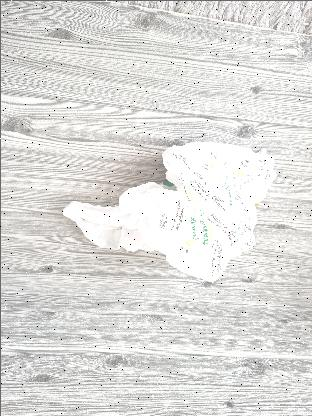Others: (62, 132, 284, 286)
